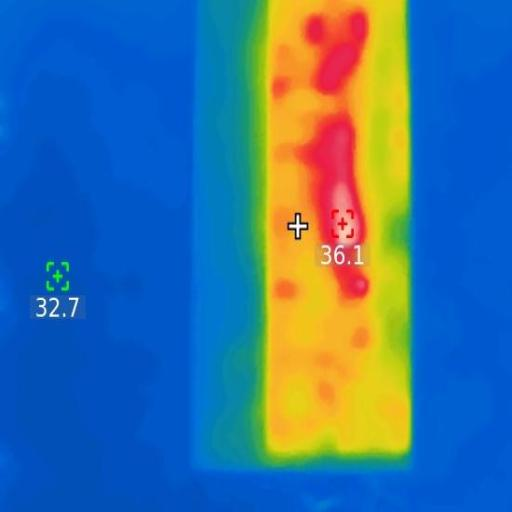hotspot: (328, 137, 364, 255), (323, 43, 347, 82), (348, 278, 368, 294), (351, 13, 359, 42)
